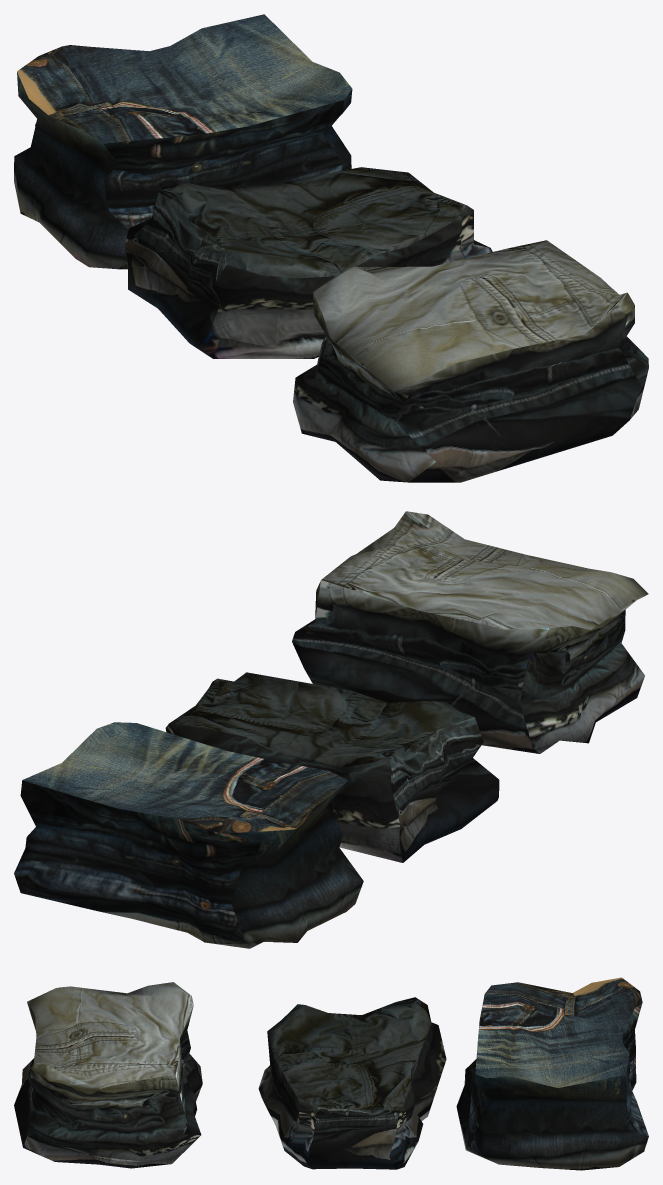
The model's file is pants_folded-1.FBX.
The picture shows the model from 3 angles, top to bottom: view 1: azimuth 30°, elevation 25°; view 2: azimuth 150°, elevation 25°; view 3: azimuth 270°, elevation 25°; orthographic projection. The views are drawn at different scales.
Parts seen in each view (by area): view 1: Line02, Object001, Object002; view 2: Object001, Line02, Object002; view 3: Object001, Line02, Object002.
Part boxes in pixels (x1,y1,x2,y2): Line02: [293, 240, 648, 482]; Object001: [14, 14, 352, 269]; Object002: [125, 167, 492, 358]; Object001: [14, 722, 363, 948]; Line02: [292, 511, 648, 753]; Object002: [165, 672, 499, 862]; Object001: [456, 977, 648, 1170]; Line02: [14, 982, 202, 1168]; Object002: [258, 997, 446, 1169].
Bounding box in the file's own units: 30.12 × 13.31 × 70.97.
